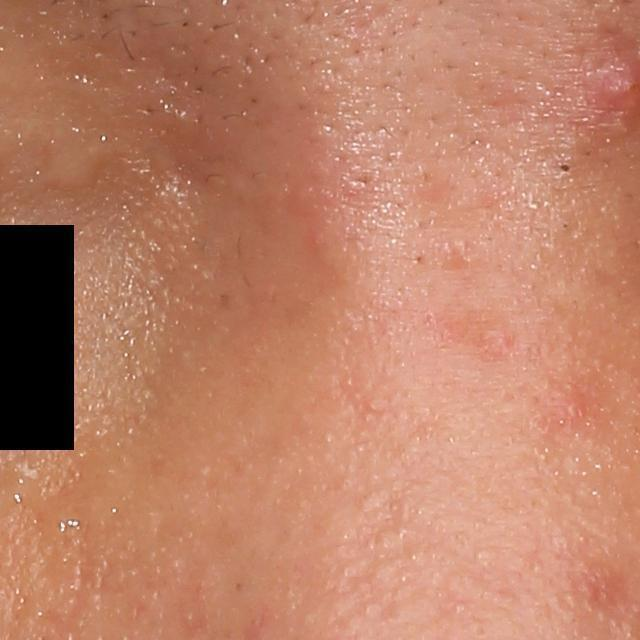comedo: (556, 159, 576, 178)
